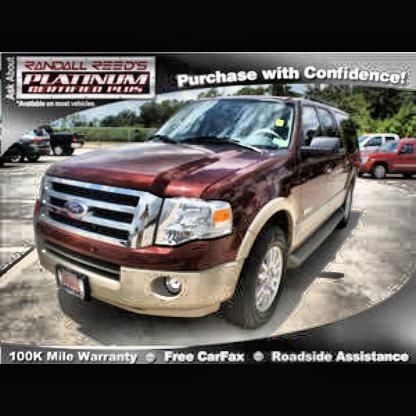Ford Expedition EL SUV 2009: (34, 98, 361, 333)
